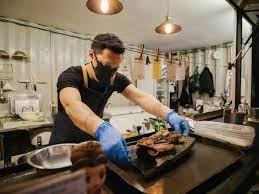apron: (94, 118, 134, 170), (163, 107, 193, 138)
mask: (90, 59, 122, 87)
no_gloves: (88, 32, 128, 58)
